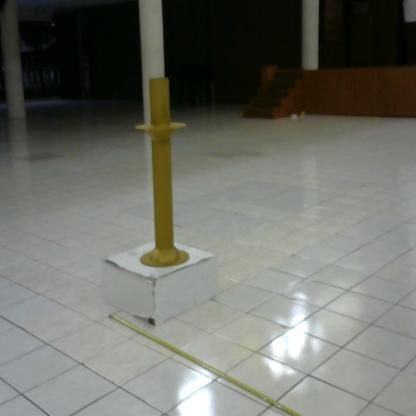pole: (130, 71, 201, 276)
